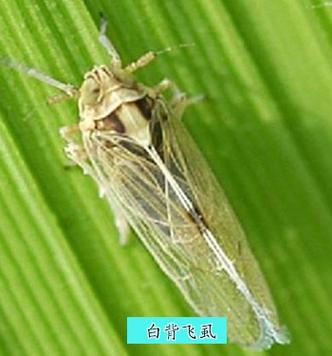Delphacidae: (5, 11, 290, 350)
